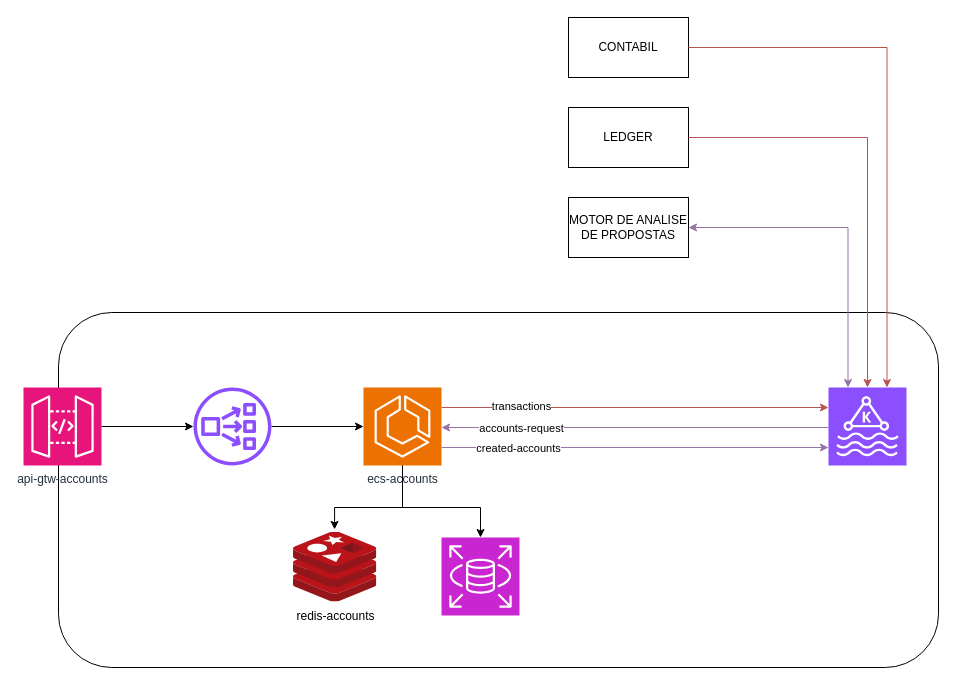
Image size: 956x685. Some labels were removed from this diagram. Each missing label, with the centre of its shape:
"kafka" belongs at pixel 867 426.
"nlb-accounts" belongs at pixel 232 426.
"rds-accounts" belongs at pixel 480 576.
